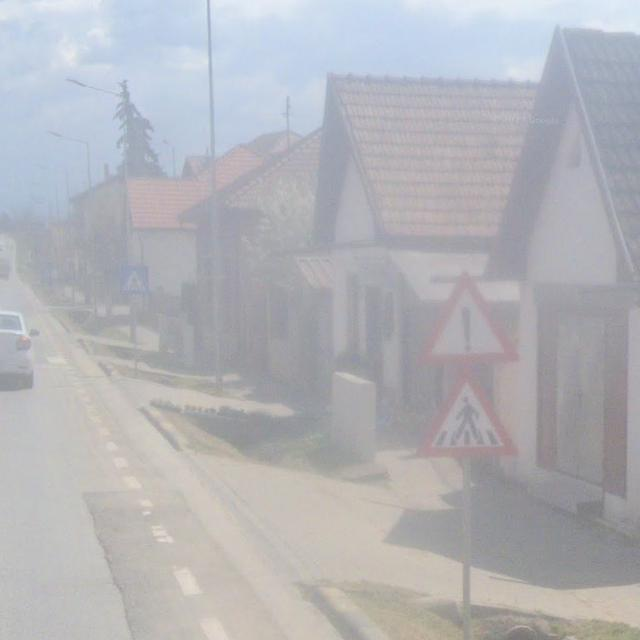info_crosswalk: (119, 264, 150, 297)
warn_crosswalk: (416, 366, 519, 459)
